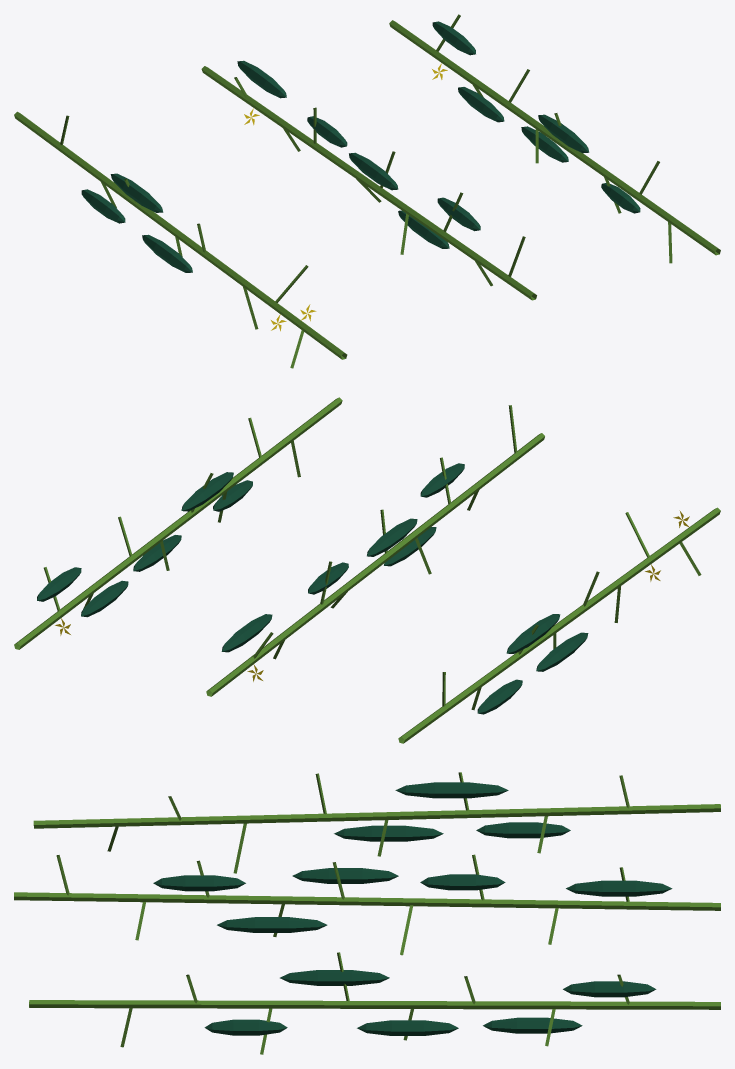
File: r5c2_stems.obj
The picture shows the model from 3 angles, top to bottom: view 1: azimuth 30°, elevation 25°; view 2: azimuth 150°, elevation 25°; view 3: azimuth 270°, elevation 25°; orthographic projection. The views are drawn at different scales.
Visible parts, largest first — view 1: r5c2_stems; view 2: r5c2_stems; view 3: r5c2_stems.
Part boxes in pixels (x1,y1,x2,y2): r5c2_stems: (14,14,720,368); r5c2_stems: (14,397,720,743); r5c2_stems: (14,772,720,1054).
Size of the model in its own units: 1.34 by 0.3347 by 1.85.
